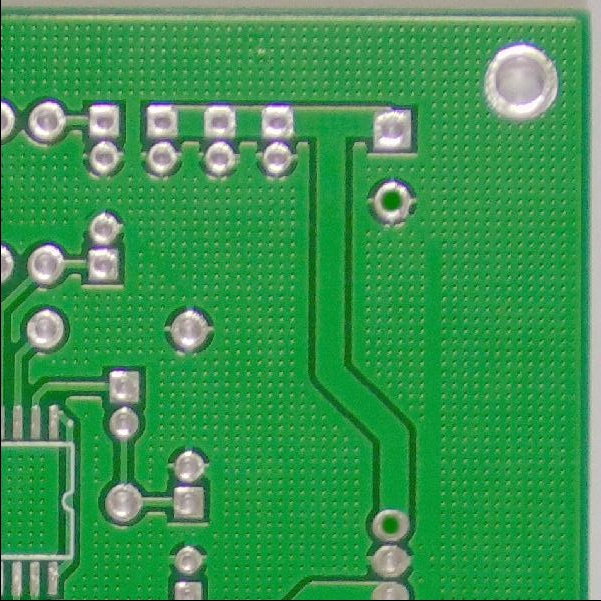missing_hole: (364, 177, 413, 223), (370, 508, 411, 542)
